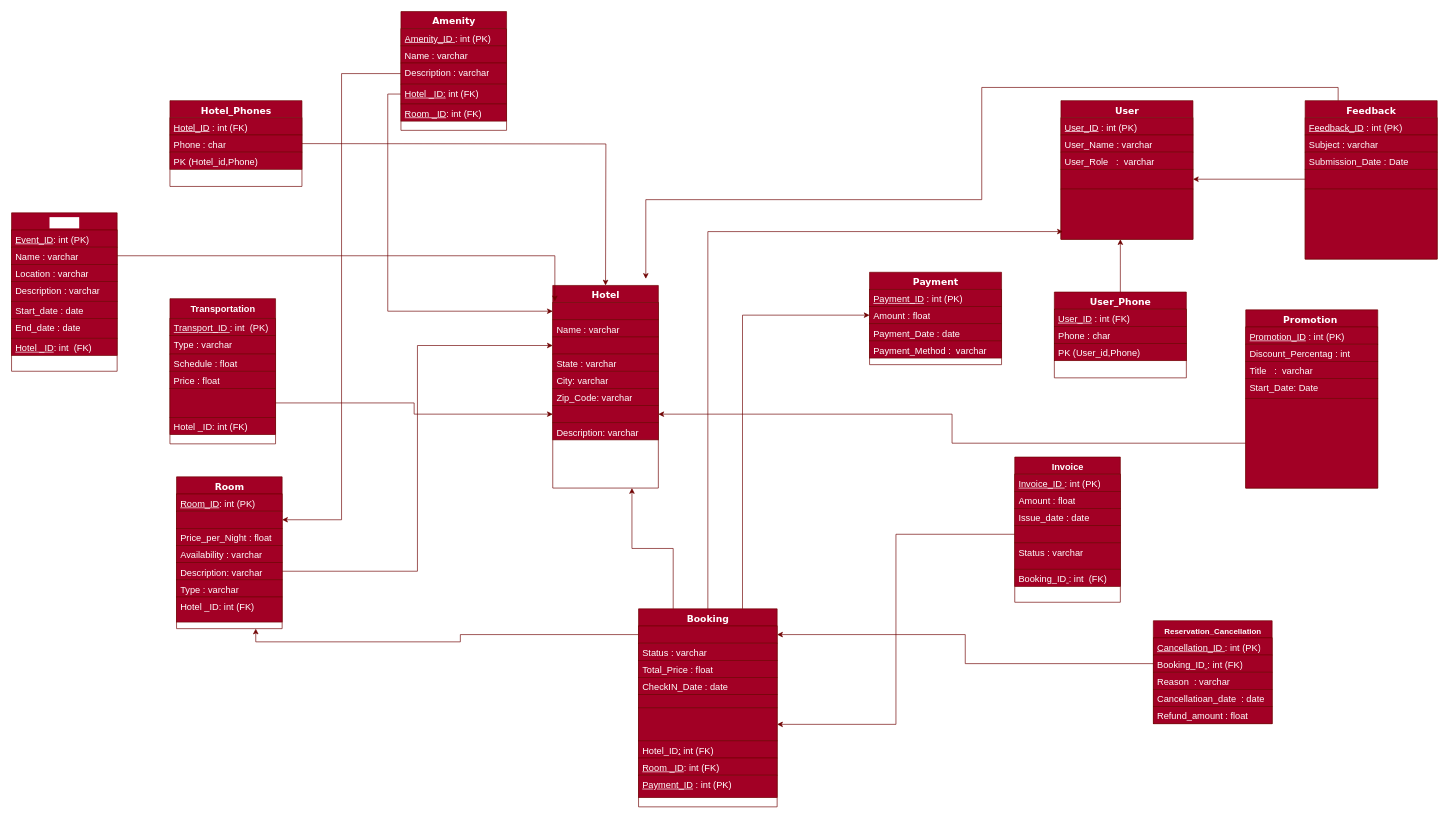
The diagram is 1449 pixels wide and 818 high, and some of its shapes have lost their labels. The centre of each missing label's shape, as x and y in pixels:
"Booking_ID : int (PK)" belongs at (707,634).
"CheckOUT_Date : date User _ID : int (FK)" belongs at (707,701).
"Comment: varchar" belongs at (1370,179).
"Contact_info : varchar" belongs at (222,402).
"Country : varchar" belongs at (605,345).
"Due_date : date" belongs at (1067,534).
"Emaile : varchar" belongs at (1126,179).
"End_Date: Date Date_joined: Date Description :varchar Hotel_id :int (FK)" belongs at (1311,443).
"Hotel _ID : int (PK)" belongs at (605,311).
"Max_Occupancy : int" belongs at (229,519).
"Password : varchar Date_joined: Date" belongs at (1126,213).
"Rating : float" belongs at (605,414).
"Rating : int Hotel_id: int (FK) User_id: int (FK)" belongs at (1370,223).
"User_Id :int (FK)" belongs at (707,724).
